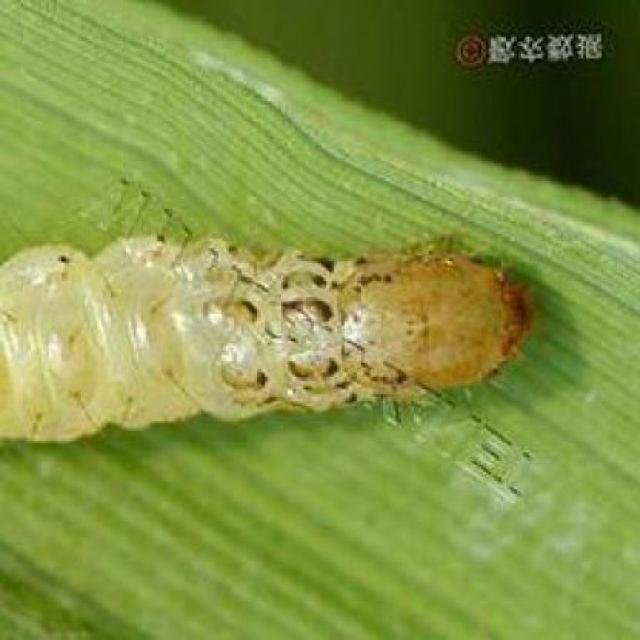leaf-folder: (6, 212, 545, 473)
